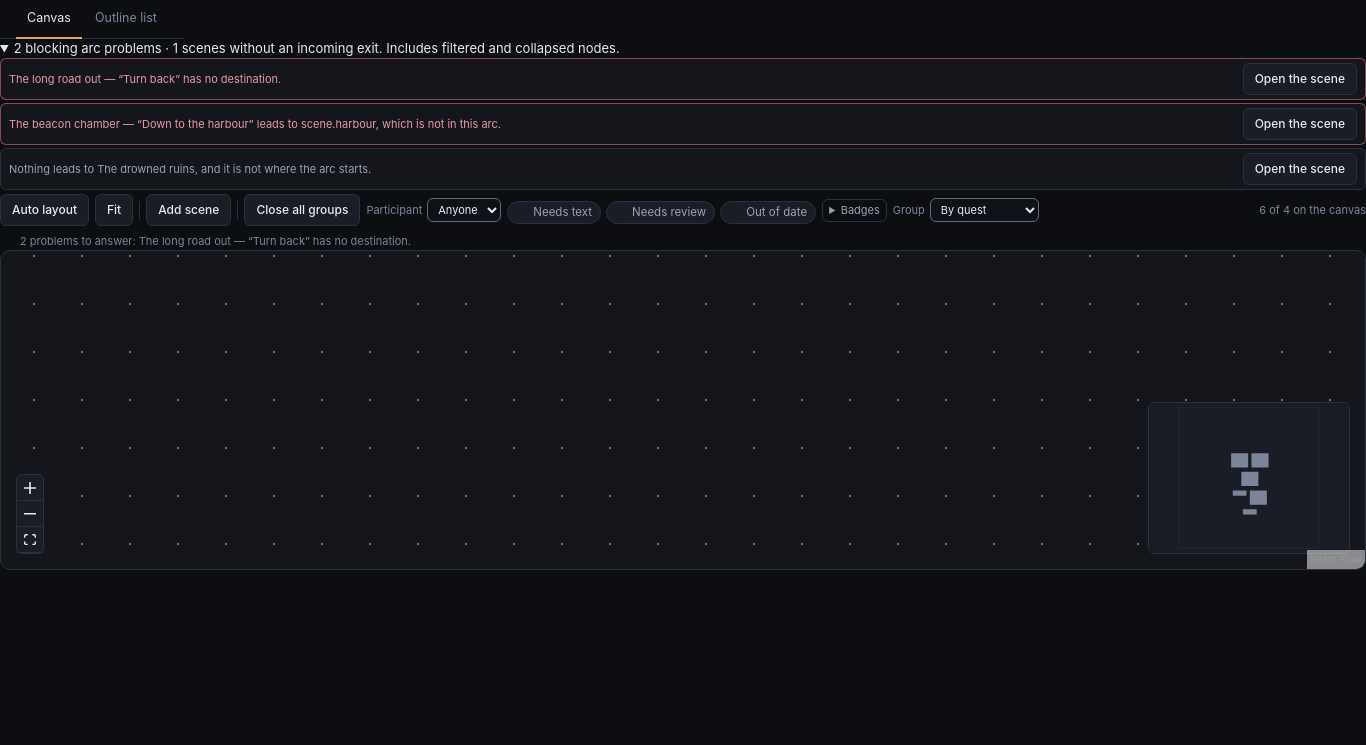
Test case: grouping, collapse and filters › folds the same quest in the outline, which is the keyboard alternative
Click the button "Outline list" at (126, 19), box [84,0,168,39]
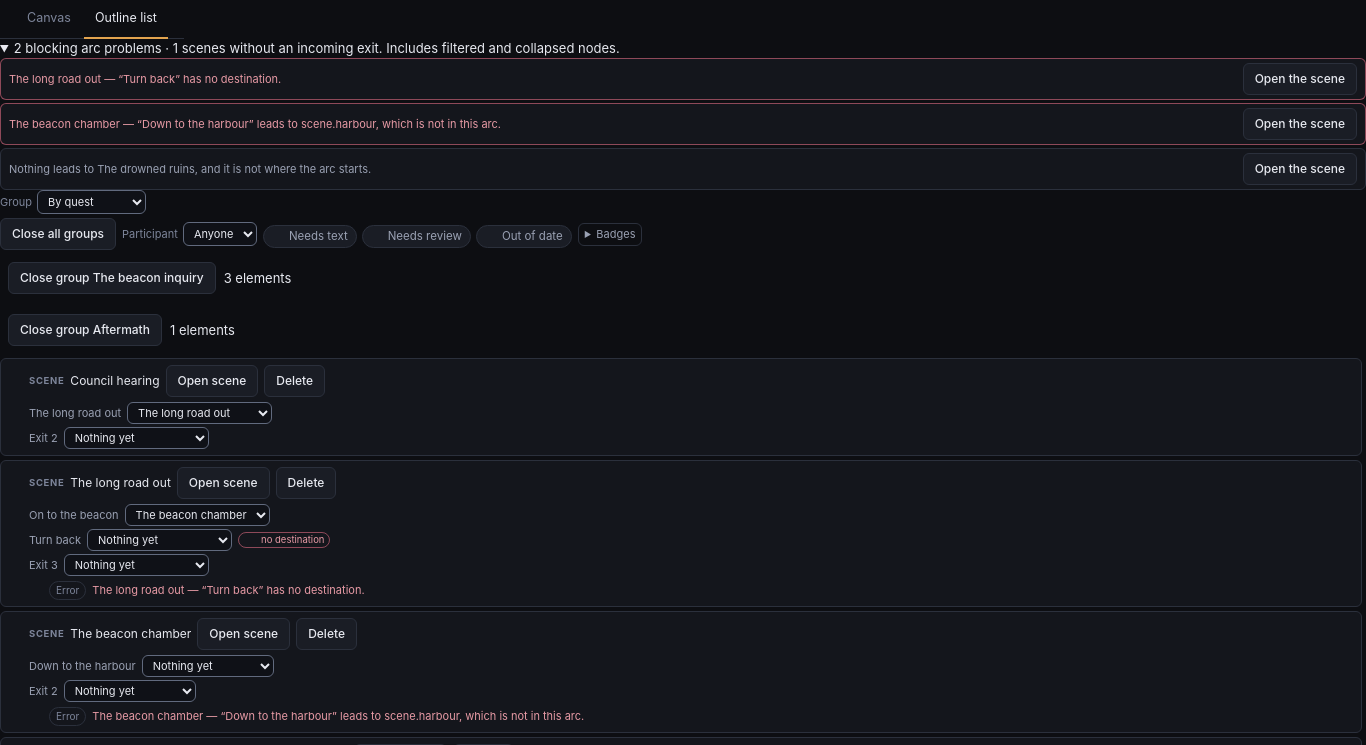
Click the button "Close group The beacon inquiry" at (112, 278), box [8,262,216,294]
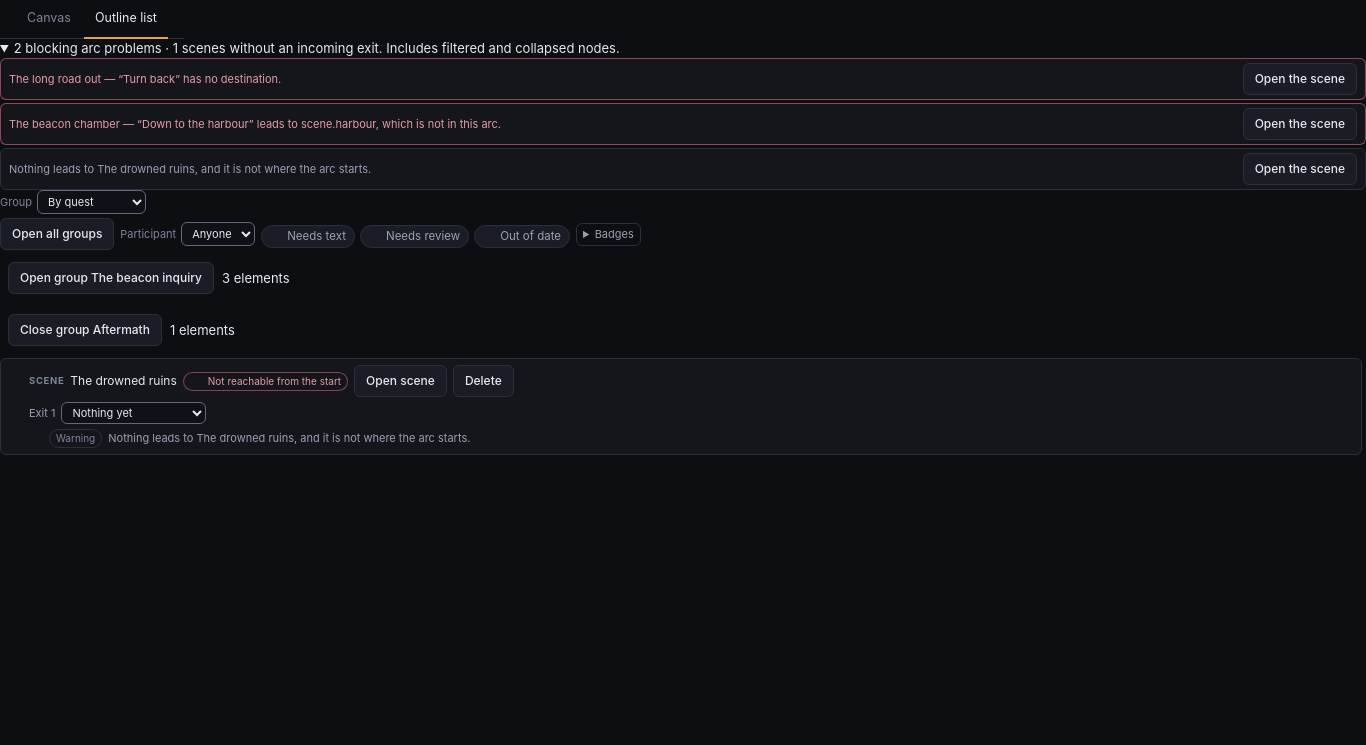
Expected: the list named "The beacon inquiry outline" shows "3 elements", [0,254,1365,455]
Expected: the number of list items with class "nrt-outline-row" is 1, [0,358,1362,455]
Expected: the button "Open group The beacon inquiry" is shown, [8,262,214,294]
